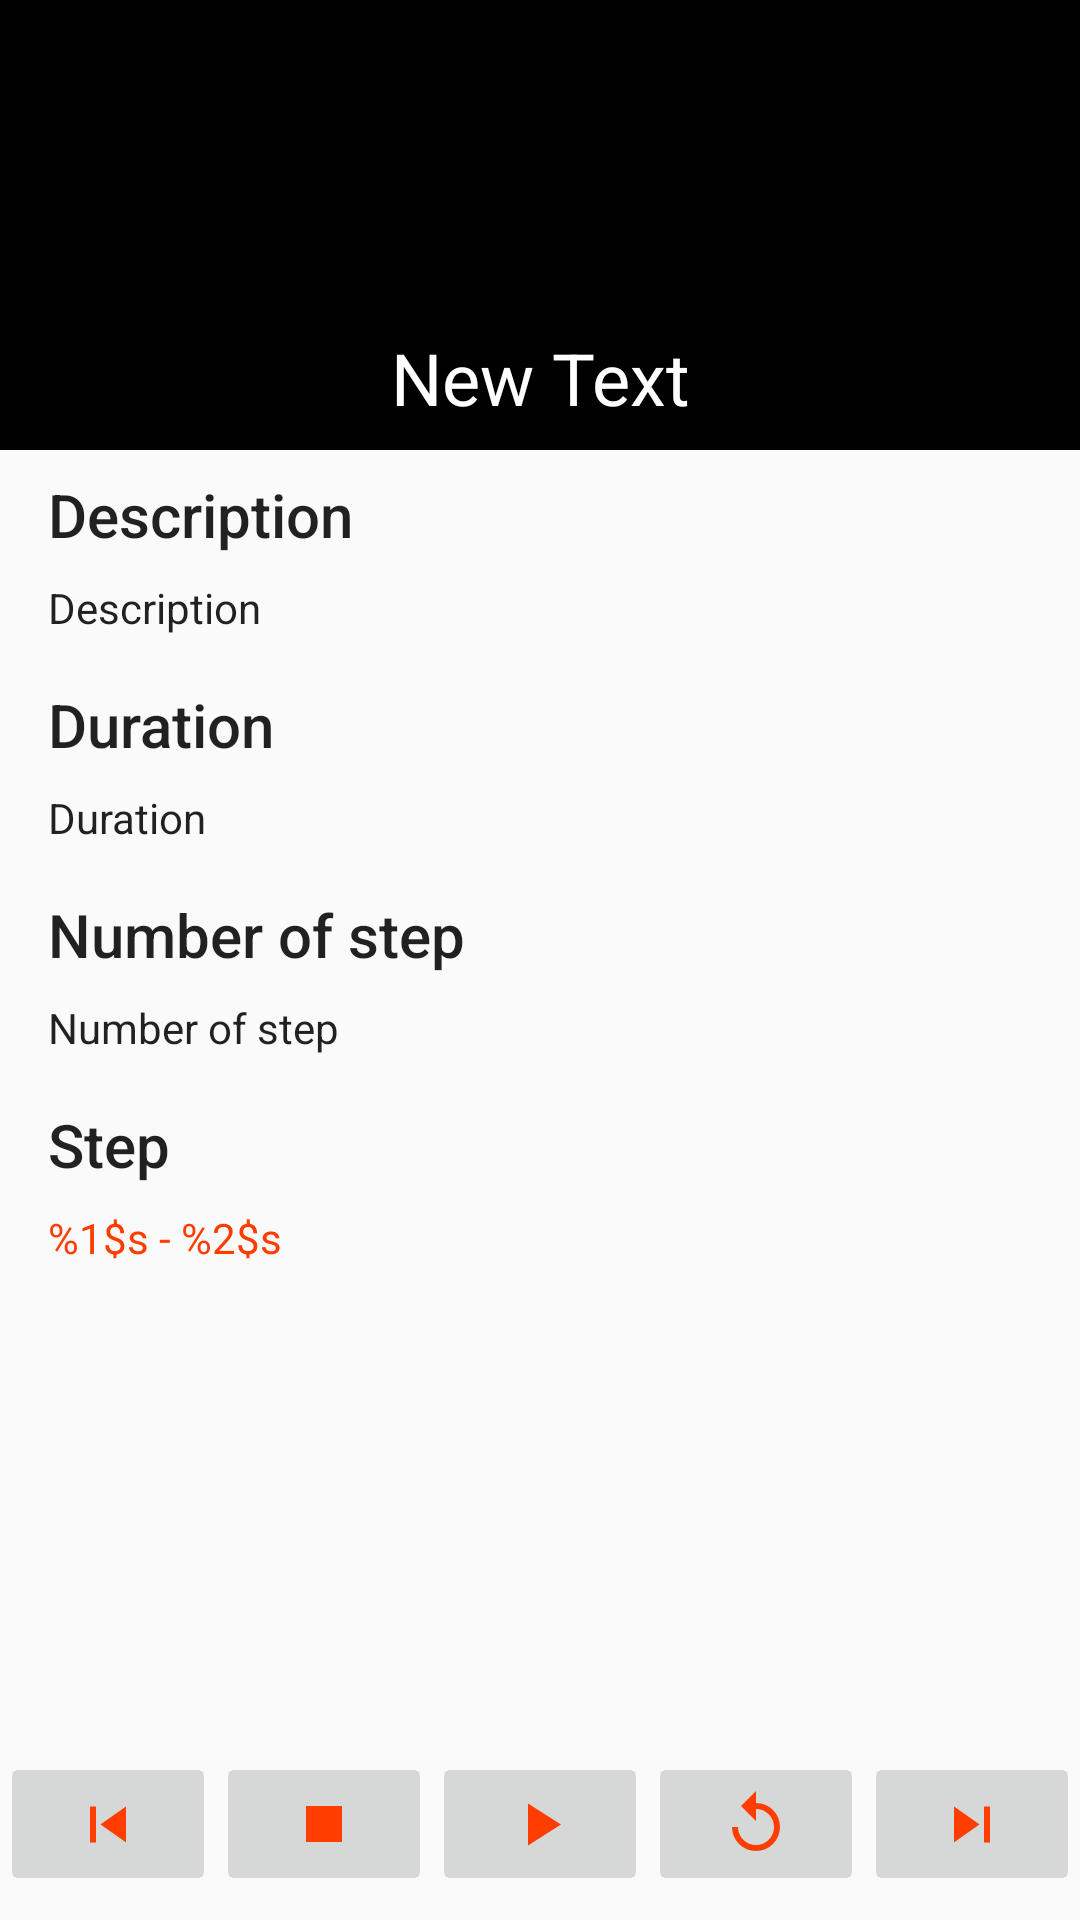

Named icons in this screenshot (1080w x 1920h) and their centers, point (x, y):
play: point (540, 1824)
replay: point (756, 1824)
skip next: point (972, 1824)
skip previous: point (108, 1824)
stop: point (324, 1824)
